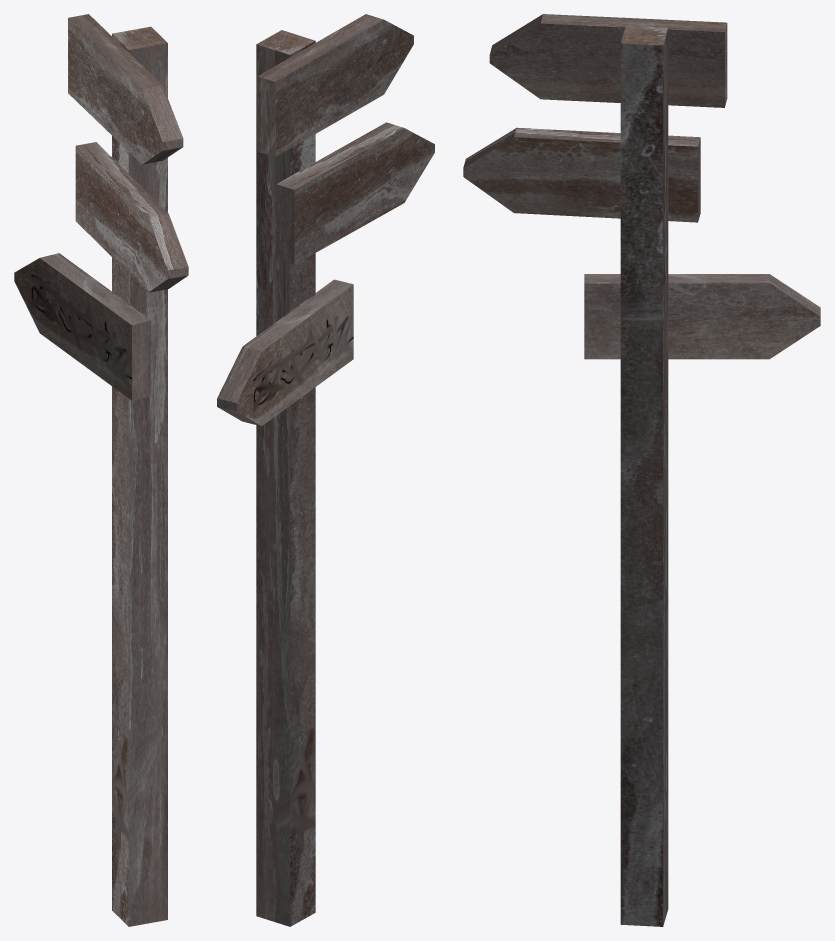
File: Direccion_Poste.obj
The picture shows the model from 3 angles, left to right: view 1: azimuth 30°, elevation 25°; view 2: azimuth 150°, elevation 25°; view 3: azimuth 270°, elevation 25°; orthographic projection.
Parts seen in each view (by area): view 1: Cube.038; view 2: Cube.038; view 3: Cube.038.
Boxes of the visible parts, x1=… form: Cube.038: x1=14, y1=14, x2=188, y2=926; Cube.038: x1=217, y1=14, x2=434, y2=926; Cube.038: x1=463, y1=14, x2=820, y2=926.
Size of the model in its own units: 0.361 by 3.71 by 1.37.
Materials: 1 (1 with a texture image).
